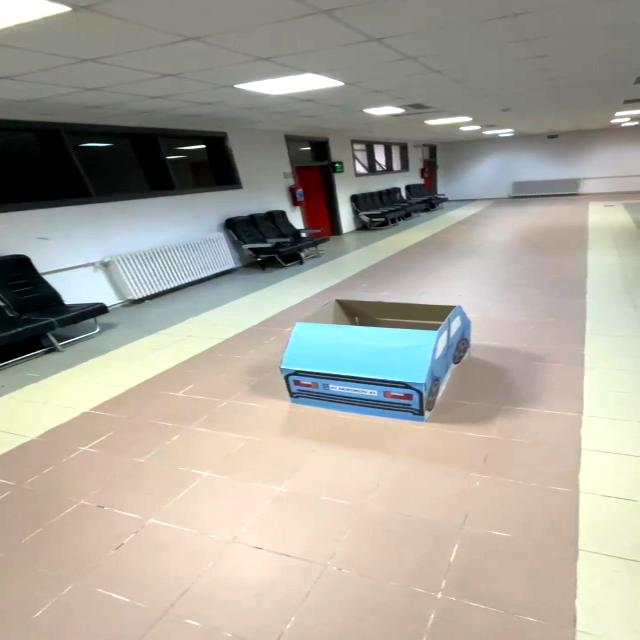blue_car: (249, 286, 491, 438)
